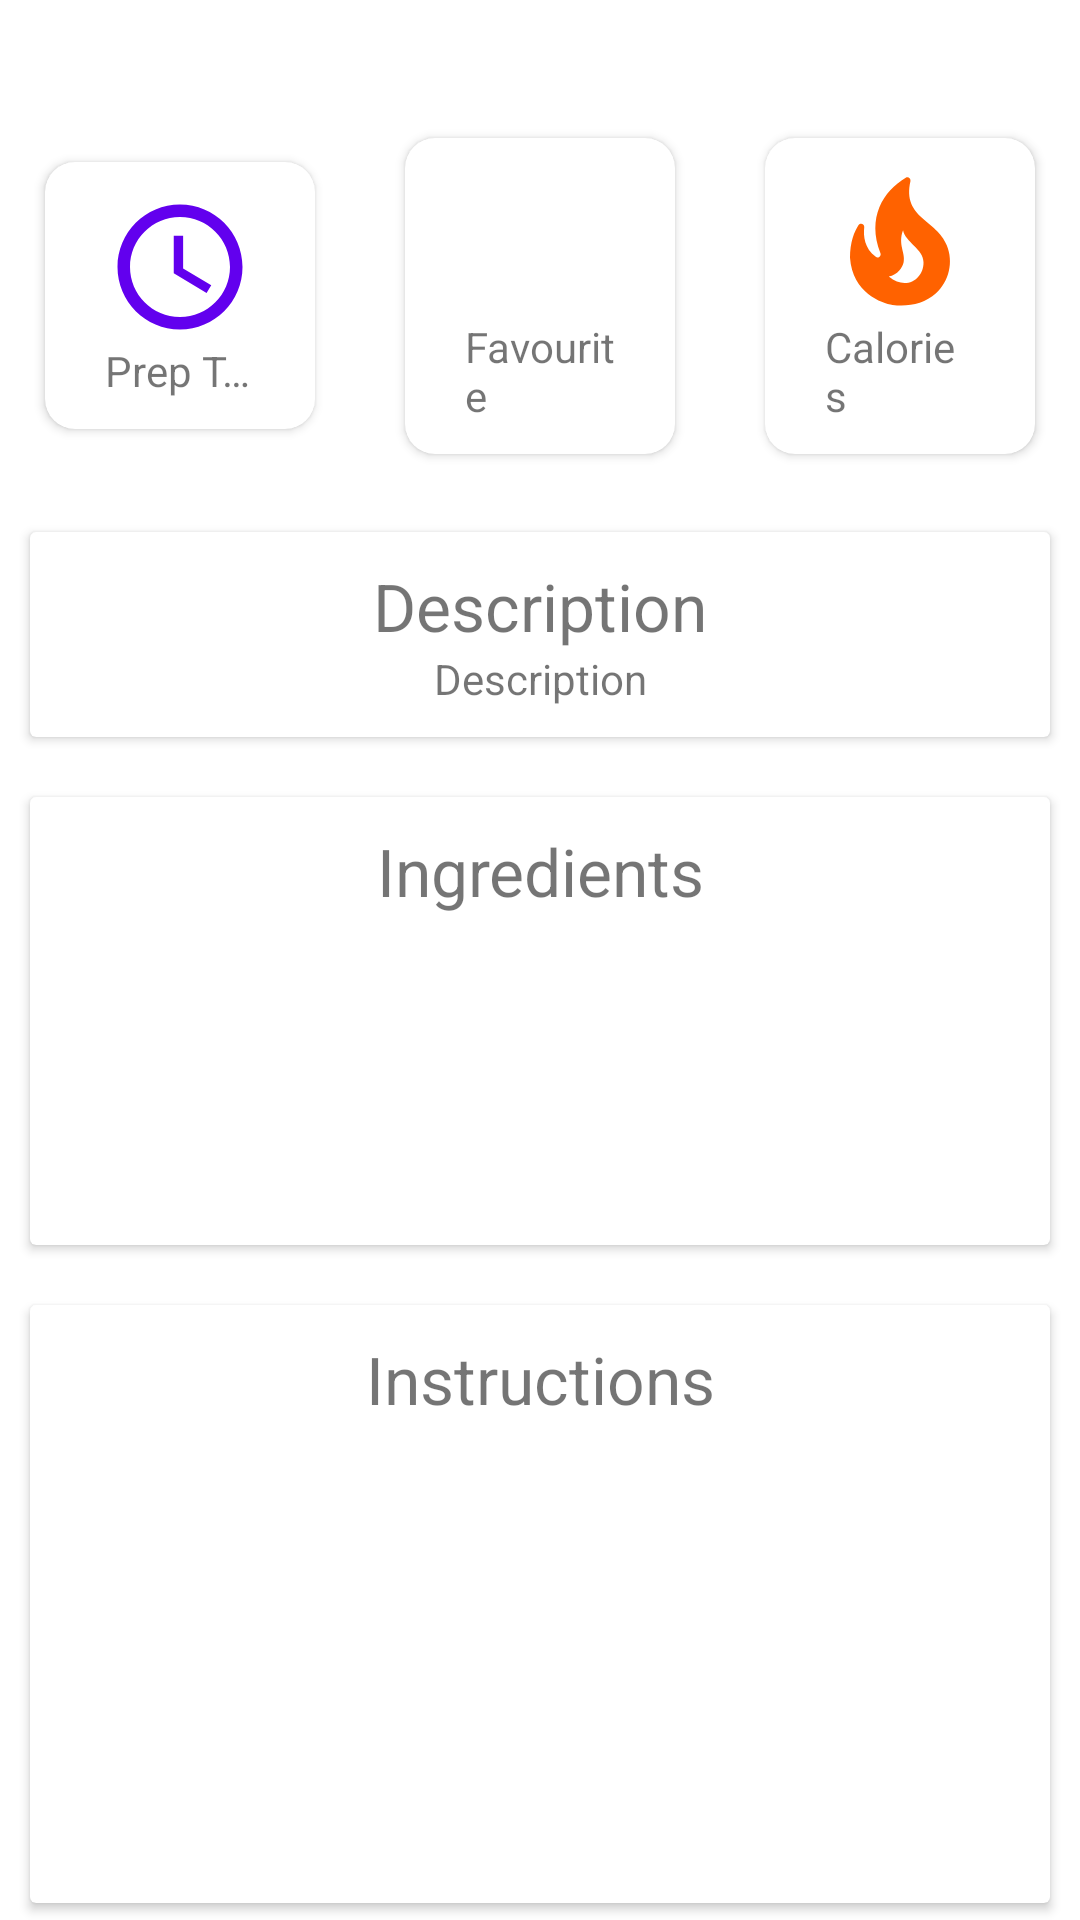

Icons on this 1080×1920 Android screen, each with its box as [left=x1, top=y1, right=x2, bottom=y2]:
access time: [left=117, top=204, right=243, bottom=330]
